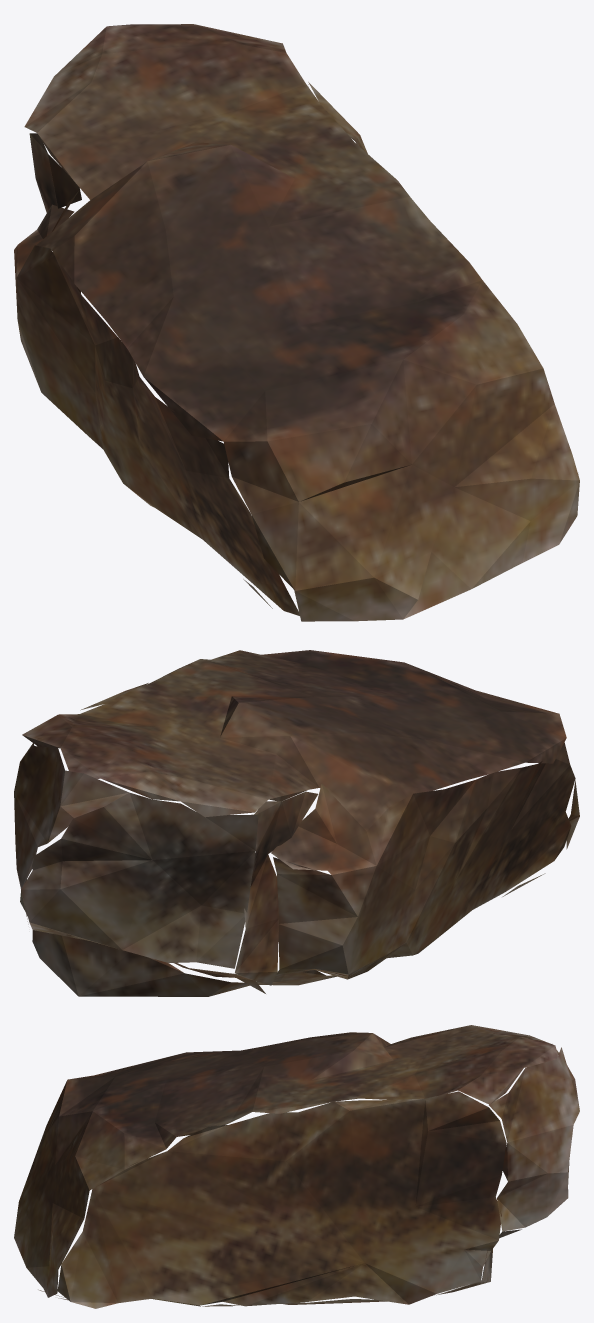
The model's file is prop_rock_ph.glb.
3 views of the same model, one above another, from view 1: azimuth 30°, elevation 25°; view 2: azimuth 150°, elevation 25°; view 3: azimuth 270°, elevation 25° (orthographic). The views are drawn at different scales.
Parts seen in each view (by area): view 1: hull; view 2: hull; view 3: hull.
Boxes of the visible parts, x1=… form: hull: x1=14, y1=24, x2=579, y2=621; hull: x1=14, y1=650, x2=579, y2=996; hull: x1=14, y1=1025, x2=579, y2=1308.
Bounding box in the file's own units: 1.06 × 0.8977 × 2.
Materials: 1 (1 with a texture image).
